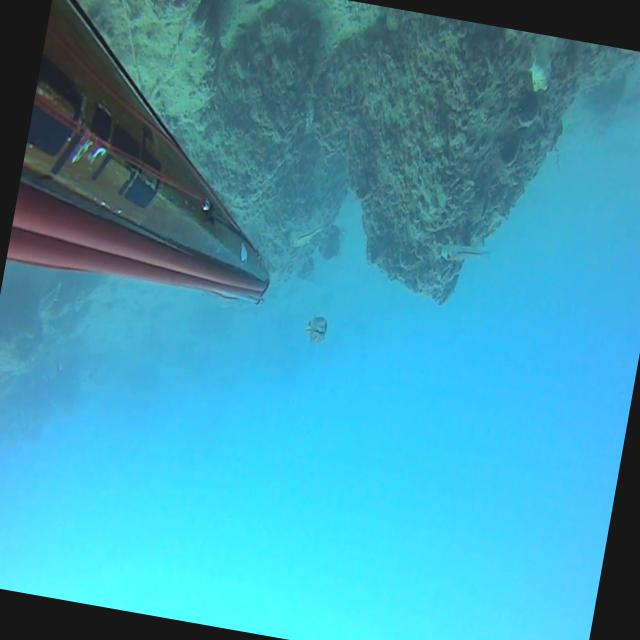Balon Baligi: (520, 38, 556, 94), (439, 236, 492, 268), (290, 222, 322, 251), (304, 312, 328, 346), (38, 280, 61, 315)
